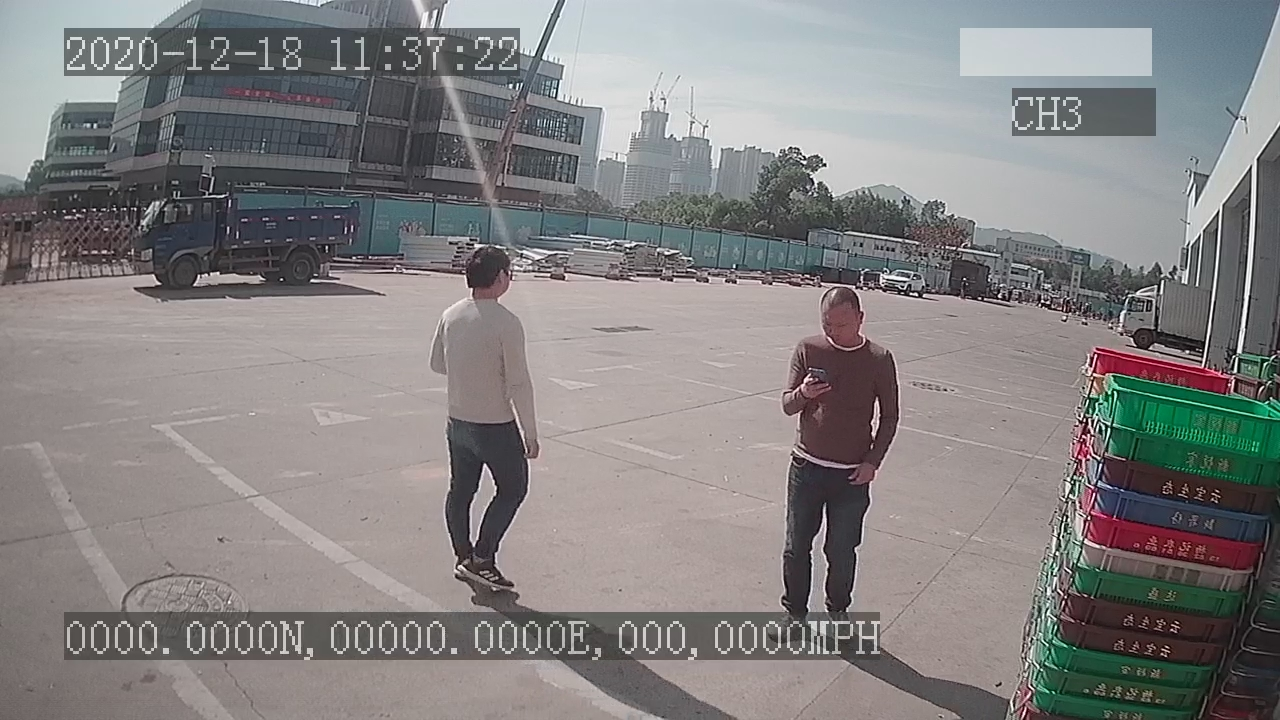person: (425, 238, 546, 602)
